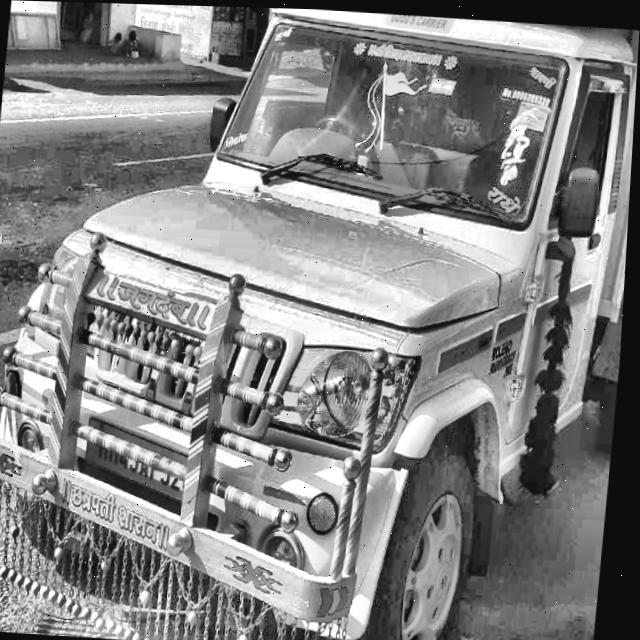light_vehicle: (0, 0, 640, 616)
